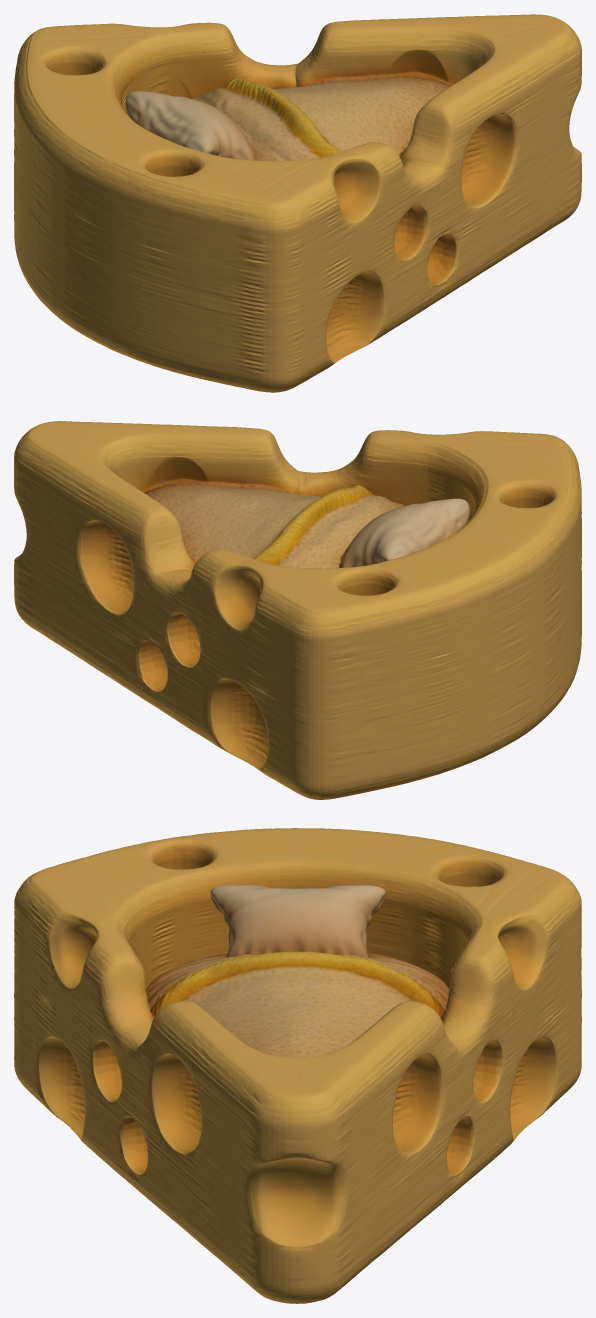
File: raw.glb
The picture shows the model from 3 angles, top to bottom: view 1: azimuth 30°, elevation 25°; view 2: azimuth 150°, elevation 25°; view 3: azimuth 270°, elevation 25°; orthographic projection. The views are drawn at different scales.
Visible parts, largest first — view 1: tripo_node_d6f6602a-be54-41e4-a143-a4ab30c653fb; view 2: tripo_node_d6f6602a-be54-41e4-a143-a4ab30c653fb; view 3: tripo_node_d6f6602a-be54-41e4-a143-a4ab30c653fb.
Part boxes in pixels (bbox=[...]): tripo_node_d6f6602a-be54-41e4-a143-a4ab30c653fb: bbox=[14, 14, 581, 392]; tripo_node_d6f6602a-be54-41e4-a143-a4ab30c653fb: bbox=[14, 421, 581, 799]; tripo_node_d6f6602a-be54-41e4-a143-a4ab30c653fb: bbox=[14, 828, 581, 1303].
Bounding box in the file's own units: 1 × 0.3521 × 0.8559.
Materials: 1 (1 with a texture image).
